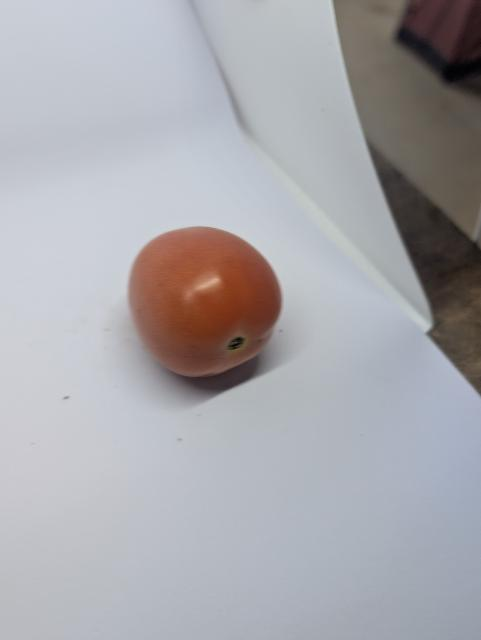red: (116, 216, 298, 395)
